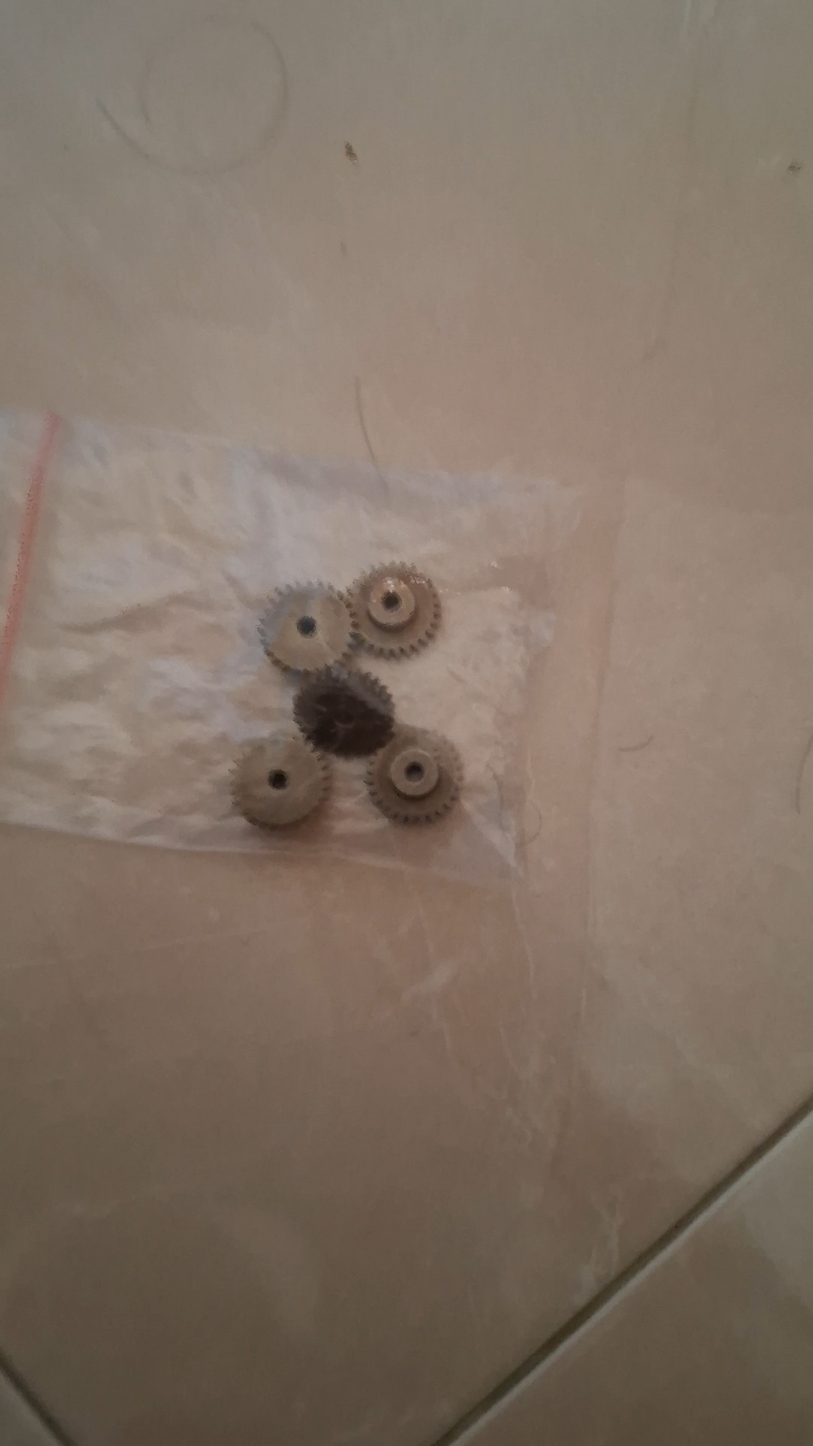spur gear: (365, 728, 463, 824), (233, 728, 328, 827), (294, 667, 394, 756), (347, 563, 440, 657), (259, 583, 353, 671)
